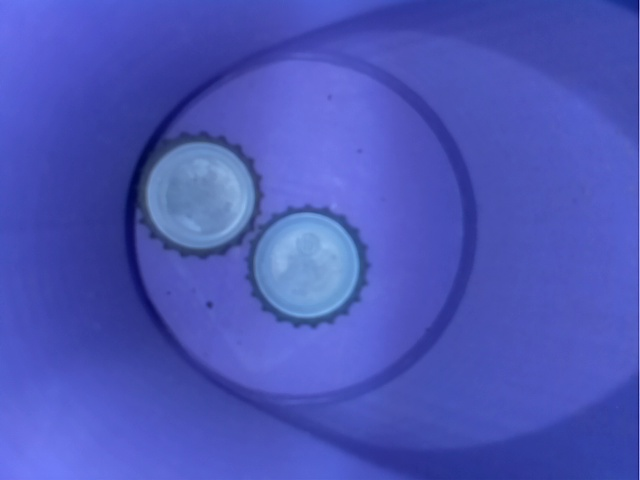capsule: (107, 111, 270, 273), (238, 199, 375, 333)
